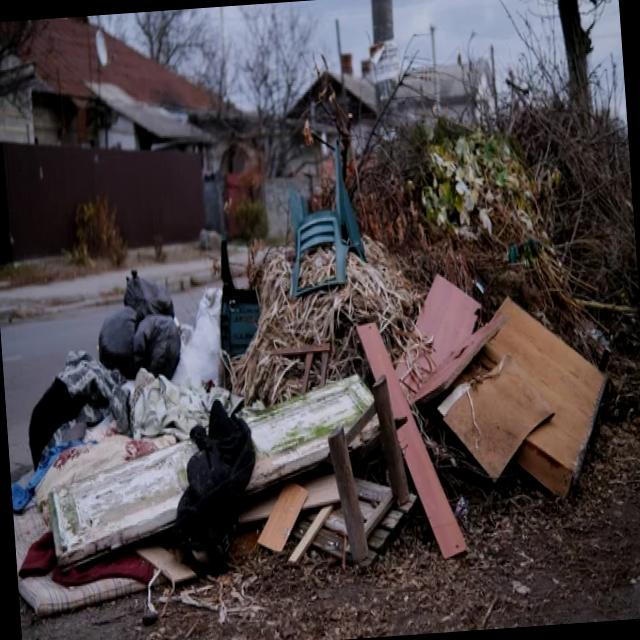garbage: (12, 4, 606, 605)
